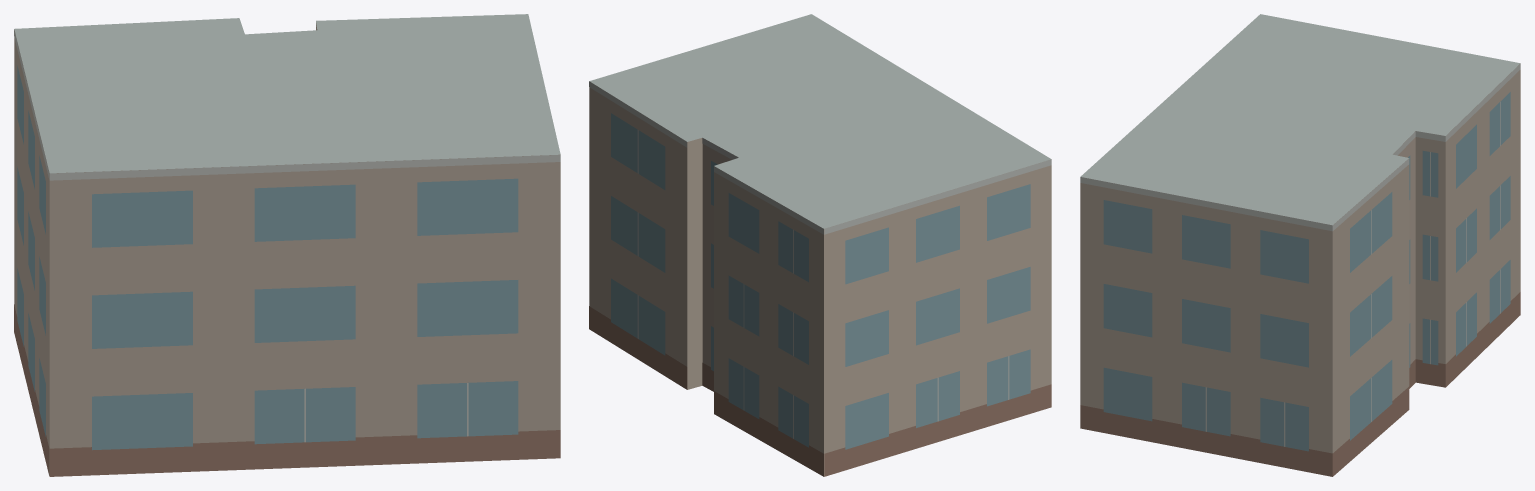
The model's file is survey-upis-32852766.glb.
3 renders of one model, left to right at view 1: azimuth 30°, elevation 25°; view 2: azimuth 150°, elevation 25°; view 3: azimuth 270°, elevation 25°, orthographic. The views are drawn at different scales.
Parts seen in each view (by area): view 1: survey-upis-32852766.tmp; view 2: survey-upis-32852766.tmp; view 3: survey-upis-32852766.tmp.
Boxes of the visible parts, left/top/right/bottom form: survey-upis-32852766.tmp: left=14, top=14, right=560, bottom=476; survey-upis-32852766.tmp: left=589, top=14, right=1051, bottom=476; survey-upis-32852766.tmp: left=1080, top=14, right=1520, bottom=476.
Size of the model in its own units: 18.38 by 10.2 by 16.19.
